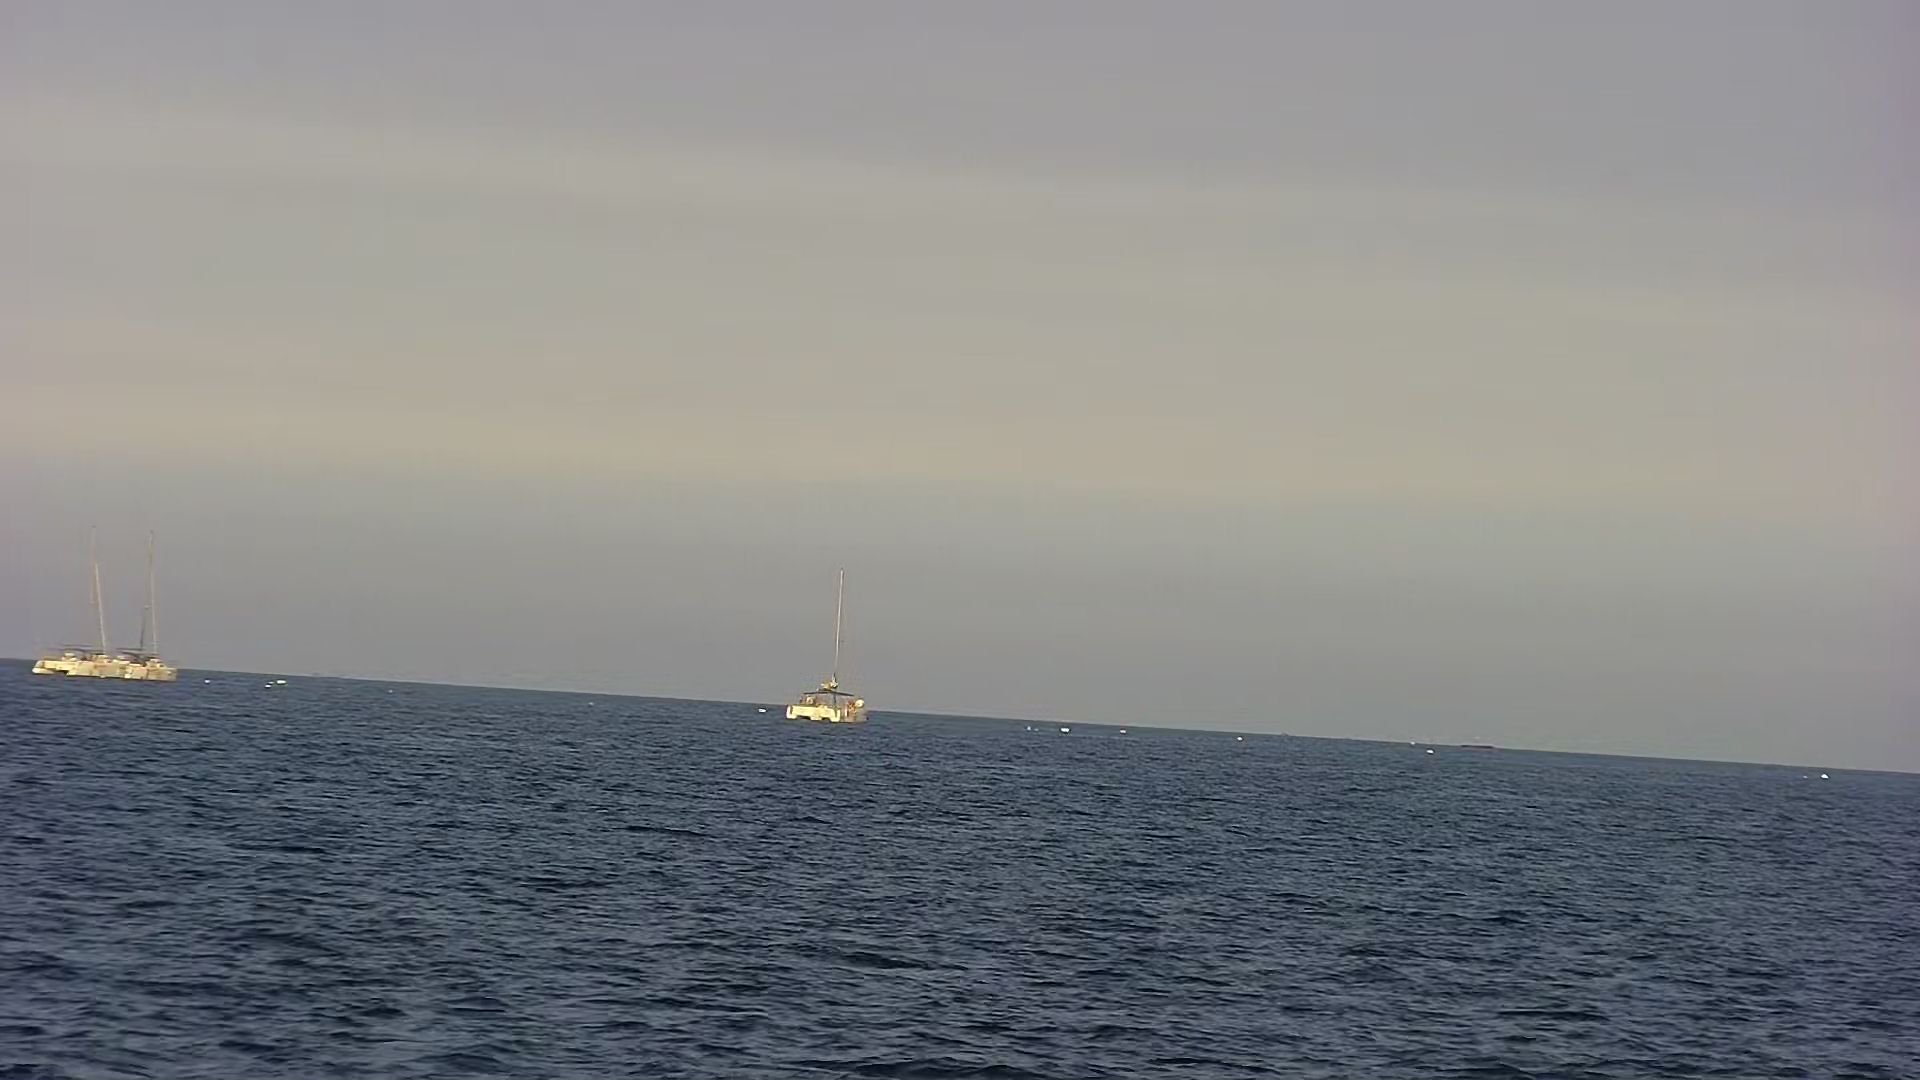platform: (22, 530, 178, 690), (774, 571, 882, 738)
